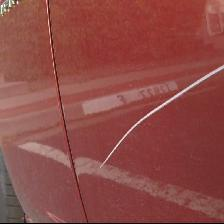door_scratch: (62, 60, 224, 163)
